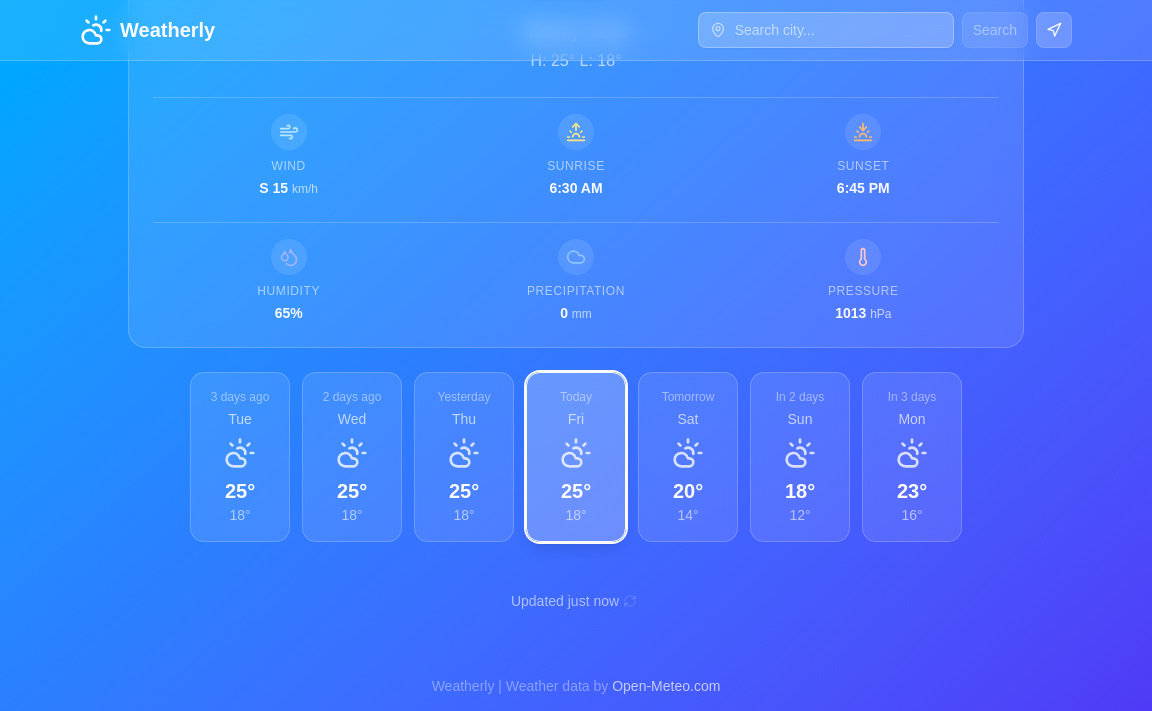
Weather App › updates weather display when selecting a different day
The image size is (1152, 711).
(page scrolled)
# find and click a forecast day card (Tomorrow) - use aria-label pattern
Click the button "Tomorrow Sat 20° 14°": coordinates (688, 457) [638, 372, 738, 542]
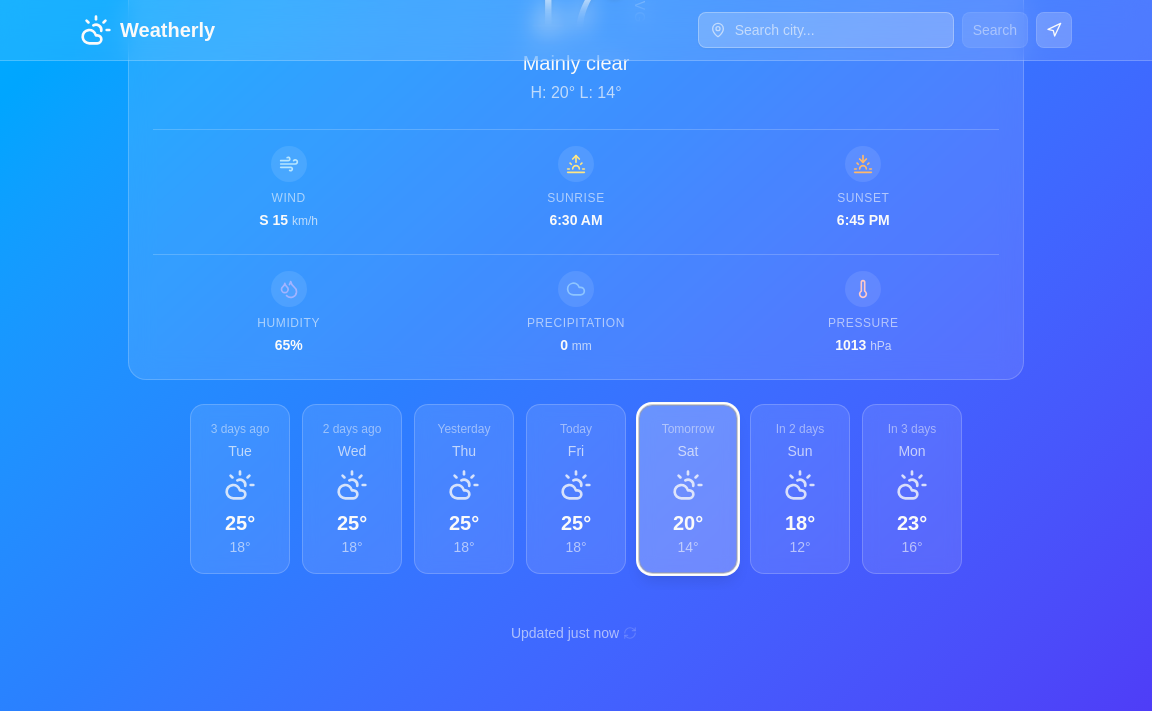
Check: the text "H: 20° L: 14°" is shown, box [530, 84, 622, 101]
